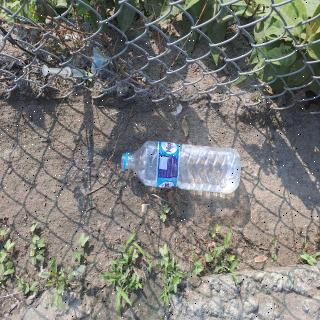Plastic-bottle: (115, 139, 249, 201)
